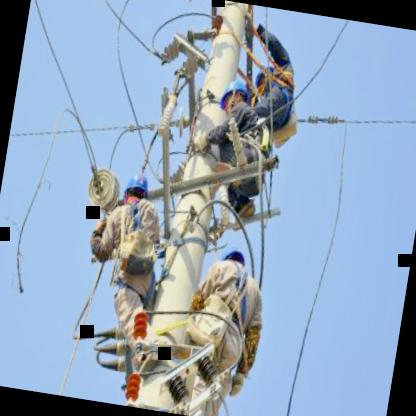helmet: (116, 172, 154, 212), (221, 74, 252, 118), (216, 238, 249, 276)
